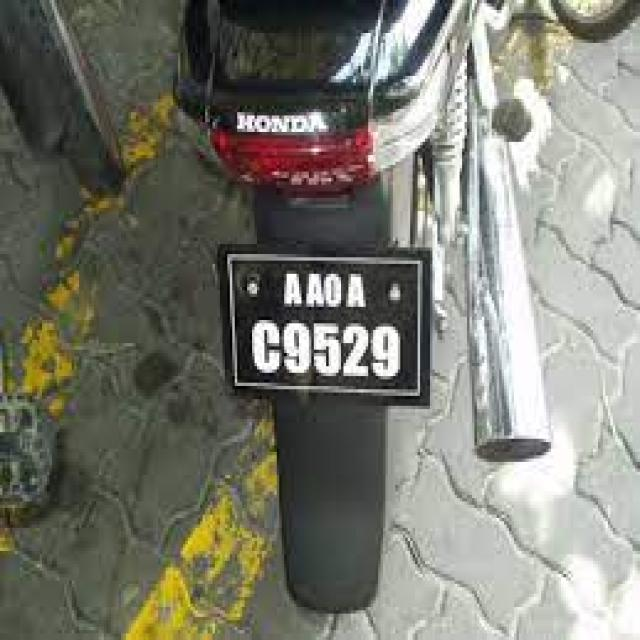license_plate: (217, 238, 430, 402)
